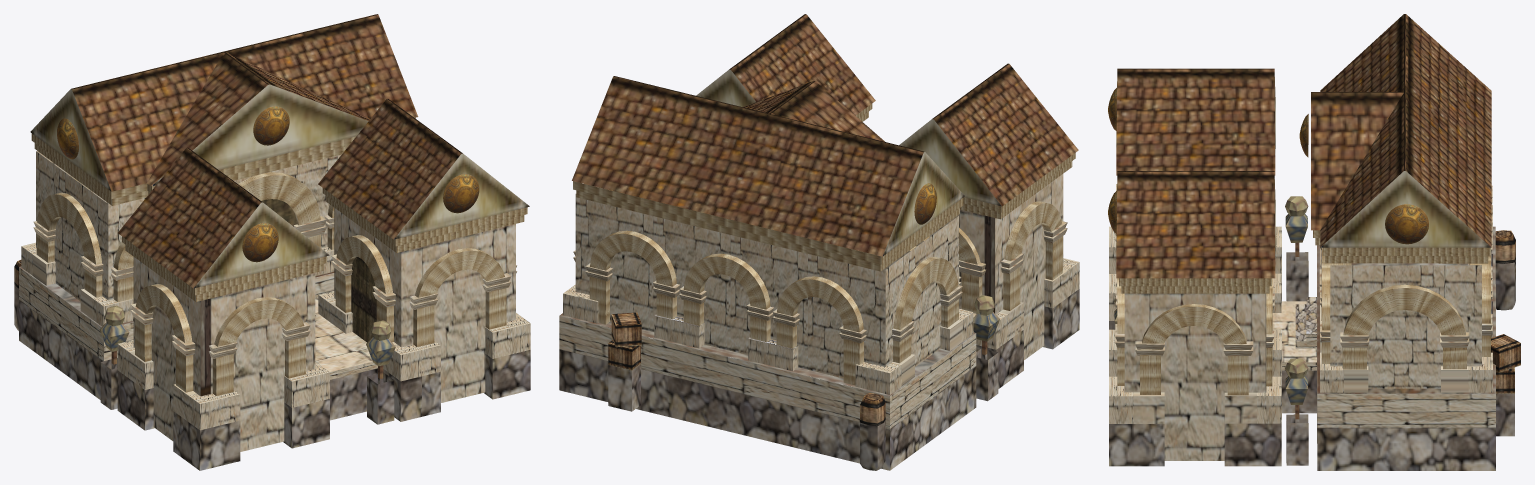
File: barracks.dae
3 views of the same model, side by side, from view 1: azimuth 30°, elevation 25°; view 2: azimuth 150°, elevation 25°; view 3: azimuth 270°, elevation 25° (orthographic). The views are drawn at different scales.
Parts seen in each view (by area): view 1: barracks; view 2: barracks; view 3: barracks.
Part boxes in pixels (<box>): barracks: <box>14,14,530,470</box>; barracks: <box>559,14,1079,470</box>; barracks: <box>1108,14,1520,470</box>.
Bounding box in the file's own units: 19.4 × 19.46 × 15.33.
